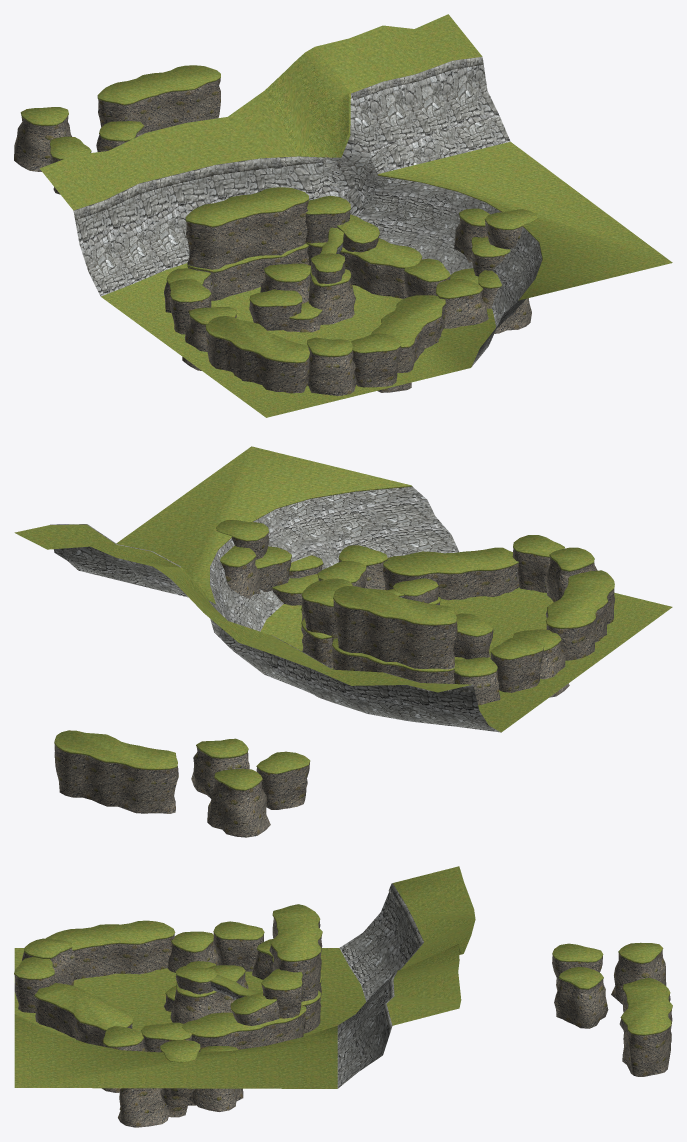
The model's file is grassblocklevel.fbx.
3 views of the same model, one above another, from view 1: azimuth 30°, elevation 25°; view 2: azimuth 150°, elevation 25°; view 3: azimuth 270°, elevation 25° (orthographic). The views are drawn at different scales.
Visible parts, largest first — view 1: Plane, Circle.018, Circle.003, Circle.008, Circle.011, Circle.014, Circle.001, Circle.009, Circle.007, Circle.010, Circle.012, Circle.026 (+16 smaller); view 2: Plane, Circle.003, Circle.018, Circle.011, Circle.008, Circle.001, Circle, Circle.005, Circle.002, Circle.007, Circle.010, Circle.009 (+13 smaller); view 3: Plane, Circle.008, Circle.003, Circle.011, Circle.018, Circle.014, Circle.002, Circle.001, Circle.005, Circle.020, Circle.010, Circle.024 (+14 smaller).
Boxes of the visible parts, <box> form: Plane: <box>39,14,672,417</box>; Circle.018: <box>185,187,308,269</box>; Circle.003: <box>97,65,220,132</box>; Circle.008: <box>205,316,309,393</box>; Circle.011: <box>371,295,445,392</box>; Circle.014: <box>306,238,422,298</box>; Circle.001: <box>14,107,71,171</box>; Circle.009: <box>306,337,356,395</box>; Circle.007: <box>187,243,308,300</box>; Circle.010: <box>350,333,401,387</box>; Circle.012: <box>435,279,488,328</box>; Circle.026: <box>308,268,355,324</box>; Plane: <box>14,446,672,732</box>; Circle.003: <box>54,730,178,813</box>; Circle.018: <box>333,586,457,669</box>; Circle.011: <box>382,547,519,600</box>; Circle.008: <box>545,570,615,660</box>; Circle.001: <box>207,768,270,837</box>; Circle: <box>256,751,310,809</box>; Circle.005: <box>490,637,544,692</box>; Circle.002: <box>191,738,249,798</box>; Circle.007: <box>332,638,455,683</box>; Circle.010: <box>512,535,564,592</box>; Circle.009: <box>544,547,597,601</box>; Plane: <box>14,866,475,1088</box>; Circle.008: <box>46,920,175,980</box>; Circle.003: <box>619,977,672,1076</box>; Circle.011: <box>34,983,133,1046</box>; Circle.018: <box>269,904,322,1001</box>; Circle.014: <box>182,1005,306,1049</box>; Circle.002: <box>554,967,608,1028</box>; Circle.001: <box>611,942,666,1004</box>; Circle.005: <box>213,921,264,971</box>; Circle.020: <box>118,1088,169,1127</box>; Circle.010: <box>14,957,55,1012</box>; Circle.024: <box>261,969,303,1018</box>.
Size of the model in its own units: 2248 by 913 by 3199.
